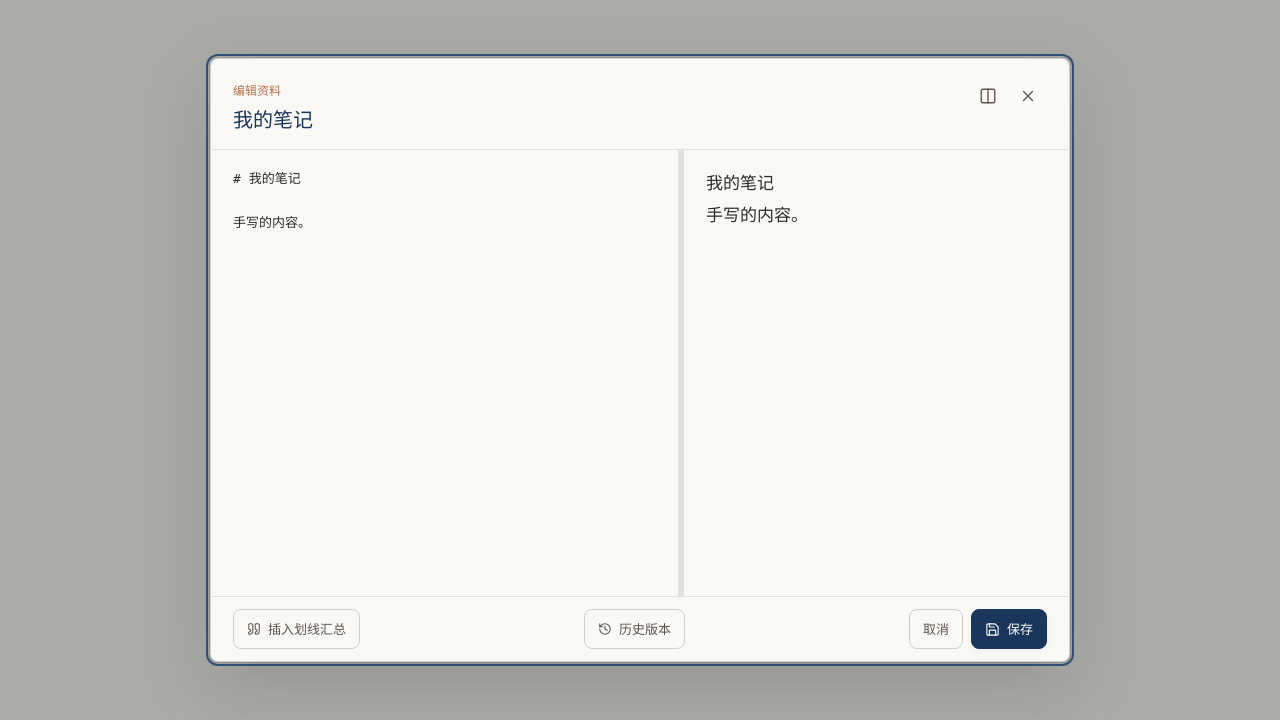
it: 插入划线汇总时只写托管区块，不动手写内容
Click the button "插入划线汇总": (296, 629) [233,609,360,649]
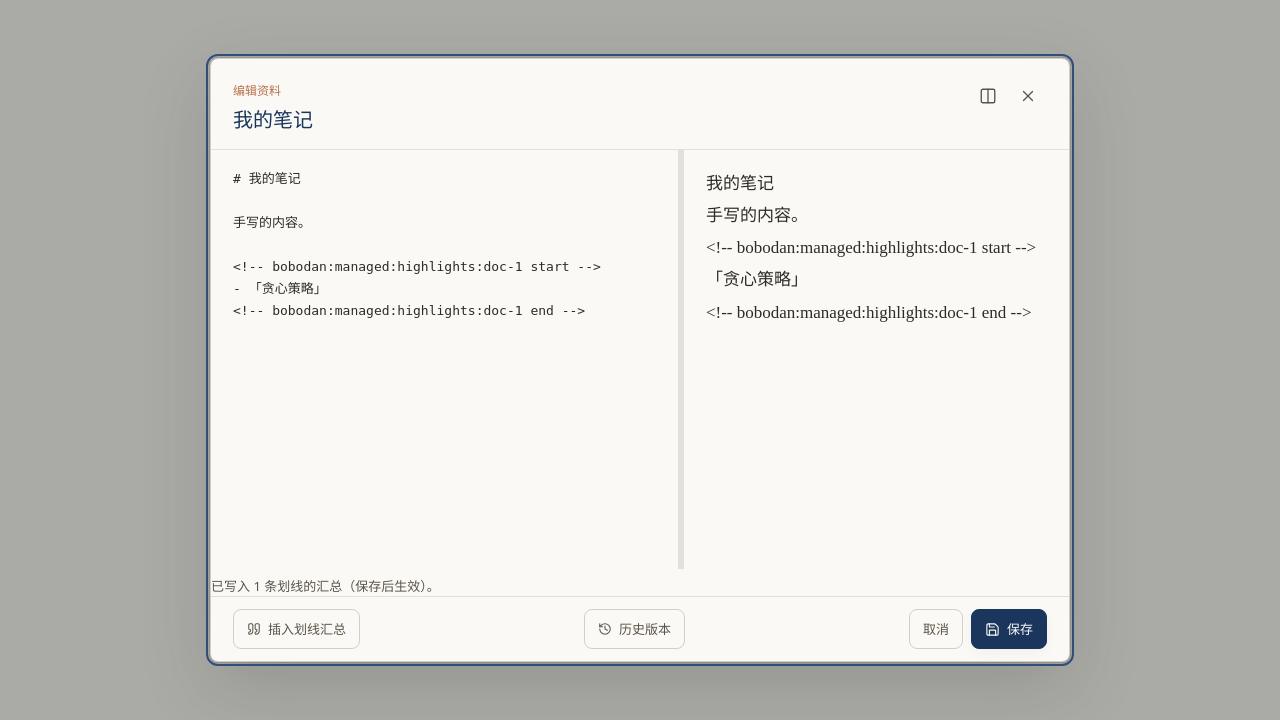
Expected: the text "已写入 1 条划线的汇总（保存后生效）。" is shown, [211,577,440,595]
